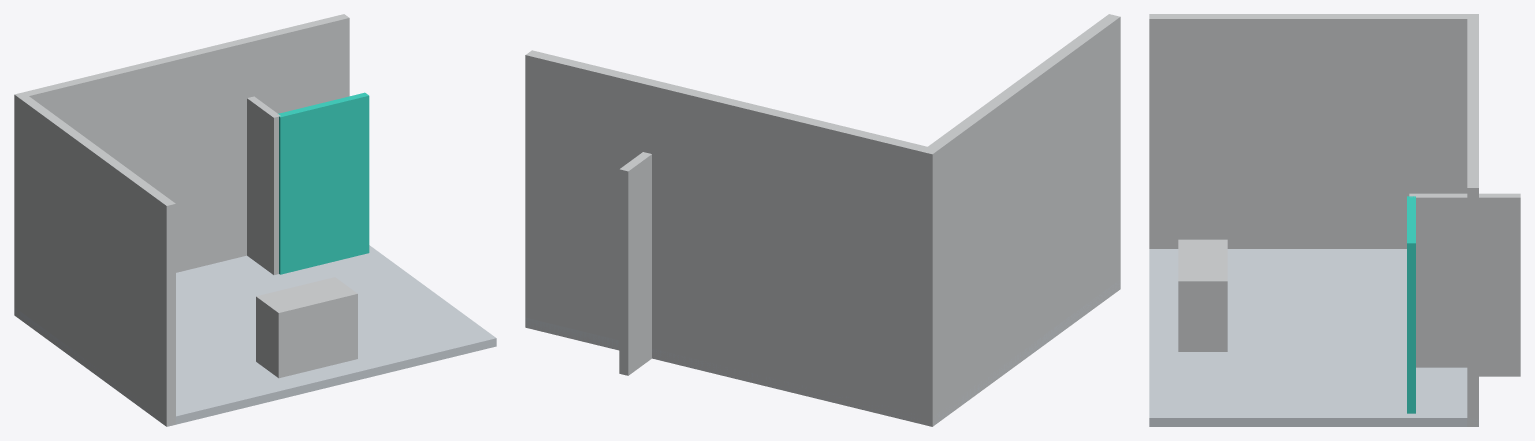
3 views of the same model, side by side, from view 1: azimuth 30°, elevation 25°; view 2: azimuth 150°, elevation 25°; view 3: azimuth 270°, elevation 25° (orthographic). The views are drawn at different scales.
Parts seen in each view (by area): view 1: Exhibition Booth Concept; view 2: Exhibition Booth Concept; view 3: Exhibition Booth Concept.
Part boxes in pixels (x1,y1,x2,y2): Exhibition Booth Concept: [14, 14, 496, 426]; Exhibition Booth Concept: [525, 14, 1120, 426]; Exhibition Booth Concept: [1149, 14, 1520, 426].
Bounding box in the file's own units: 5 × 3.2 × 4.51.
